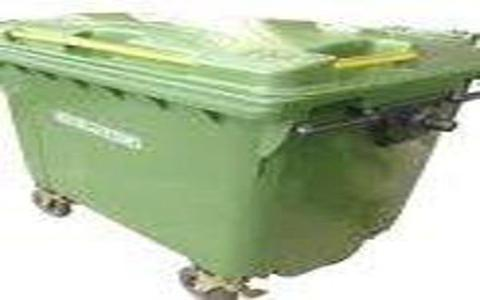Proper garbage: (3, 1, 476, 298)
